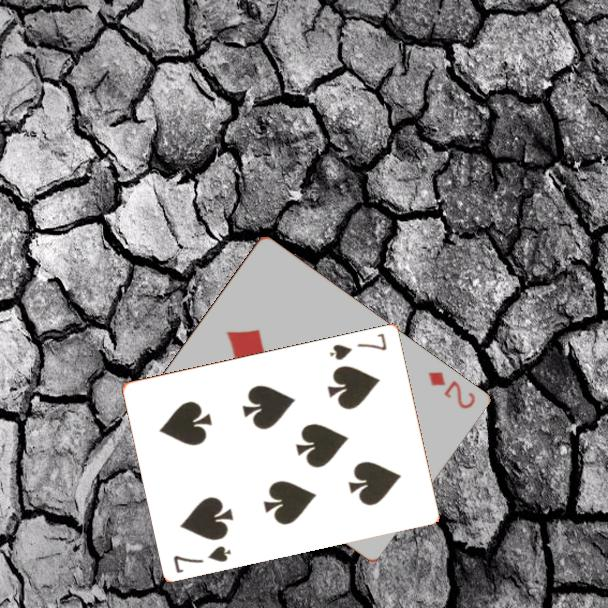d02: (424, 368, 478, 412)
s07: (326, 329, 390, 363), (170, 542, 234, 576)
